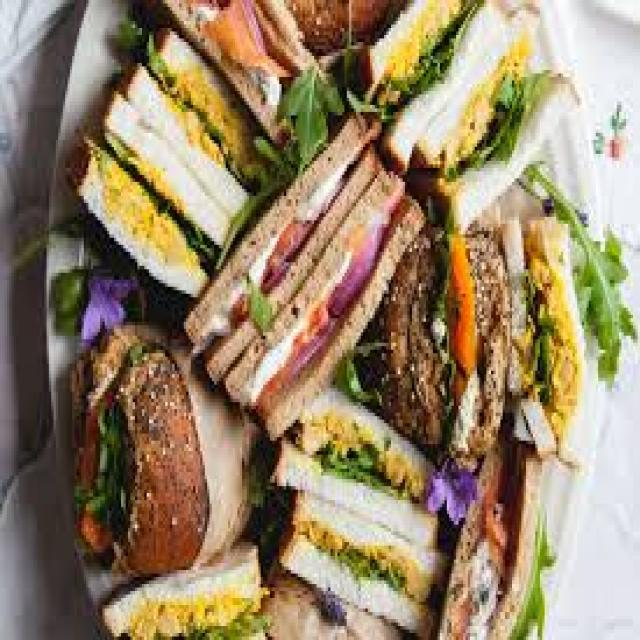Sandwich: (184, 92, 436, 417)
